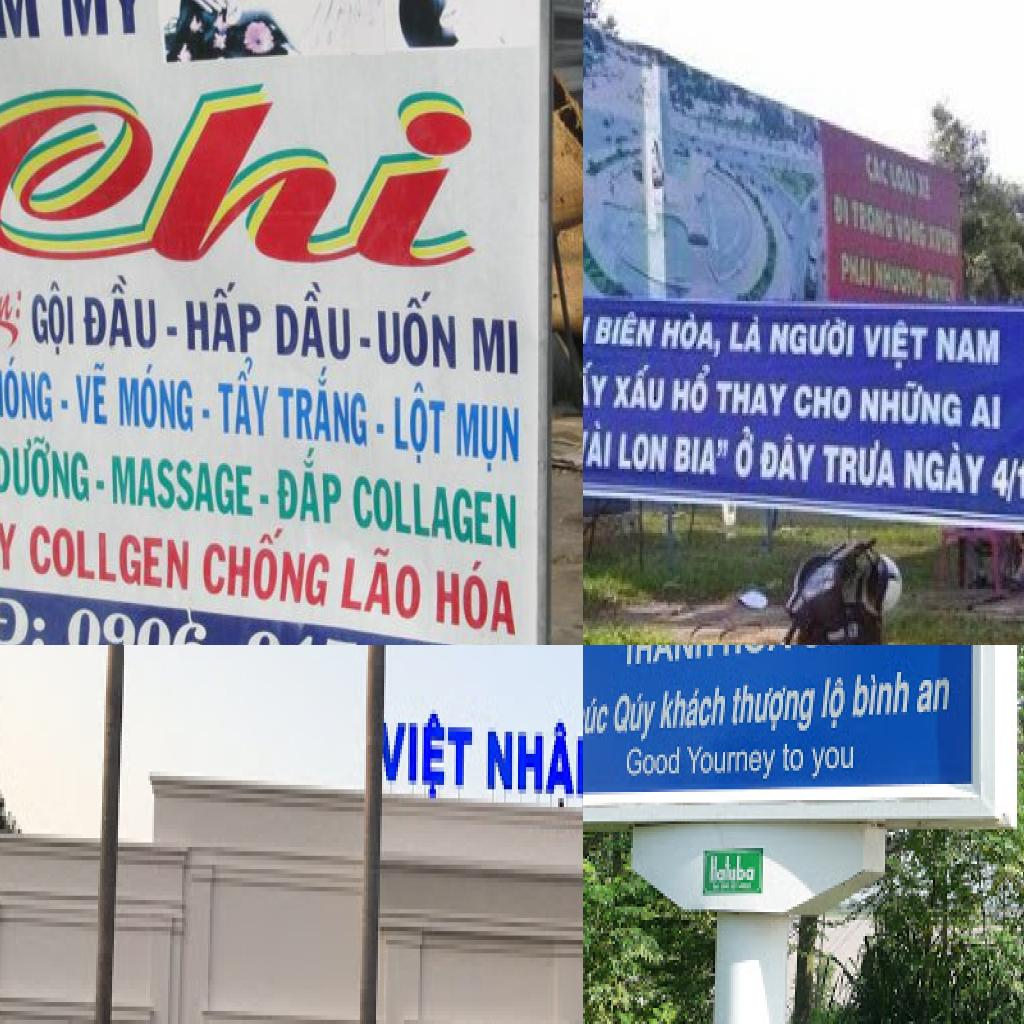text: (0, 84, 484, 271), (60, 599, 521, 645), (195, 516, 335, 617), (352, 473, 522, 555), (25, 521, 192, 596), (482, 713, 583, 820), (109, 448, 255, 516), (380, 710, 478, 807), (430, 545, 522, 642), (277, 362, 372, 450), (337, 534, 424, 622), (374, 282, 459, 369), (270, 277, 354, 362), (0, 424, 89, 504), (856, 376, 972, 434), (180, 276, 262, 356), (82, 270, 160, 350), (452, 395, 523, 482), (274, 444, 344, 531), (900, 437, 994, 501), (390, 373, 450, 473), (116, 357, 195, 432), (818, 432, 902, 498), (729, 680, 821, 739), (212, 357, 274, 444), (766, 314, 862, 368), (862, 314, 934, 378), (50, 0, 152, 41), (756, 426, 820, 490), (685, 744, 779, 787), (0, 352, 55, 425), (934, 320, 1006, 373), (657, 683, 733, 733), (714, 376, 792, 424), (30, 280, 77, 358), (608, 362, 672, 418), (849, 669, 915, 723), (656, 314, 728, 362), (790, 376, 858, 426), (470, 312, 520, 378), (670, 429, 732, 482), (592, 309, 664, 354), (0, 582, 51, 645), (614, 424, 672, 477), (668, 362, 716, 421), (613, 690, 663, 746), (74, 359, 110, 429), (872, 256, 926, 301), (621, 645, 717, 669), (852, 194, 896, 245), (583, 415, 620, 474), (625, 744, 683, 781), (986, 450, 1024, 506), (726, 312, 768, 360), (809, 744, 859, 784), (817, 675, 849, 736), (968, 386, 1006, 437), (583, 357, 616, 415), (730, 424, 762, 482), (894, 210, 930, 256), (709, 854, 759, 886), (915, 675, 953, 717), (840, 248, 874, 293), (0, 280, 24, 343), (0, 512, 20, 585), (864, 144, 892, 194), (928, 221, 962, 261), (583, 693, 613, 738), (890, 160, 920, 202), (721, 645, 797, 658), (834, 189, 854, 234), (783, 744, 807, 776), (916, 168, 934, 205), (583, 301, 596, 351)
